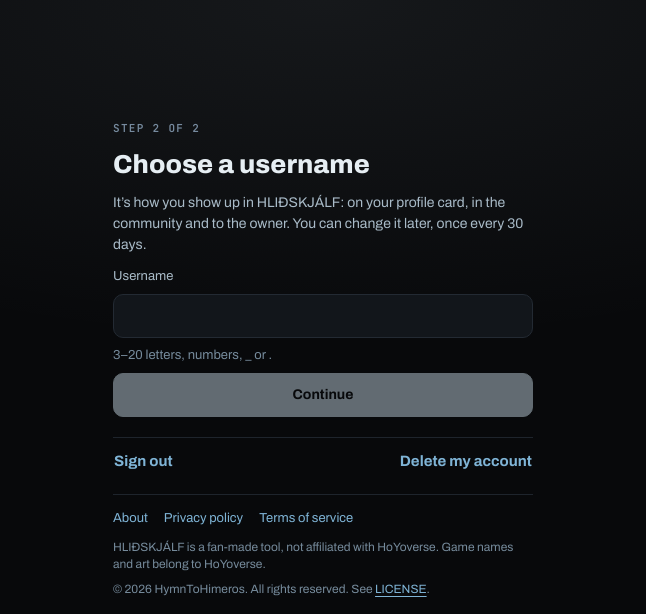
it: first run (T62) › the owner may choose a reserved name like HLITH
Type "HLITH" into the field labelled "Username". click: point(323, 316)
box: [113, 294, 533, 338]
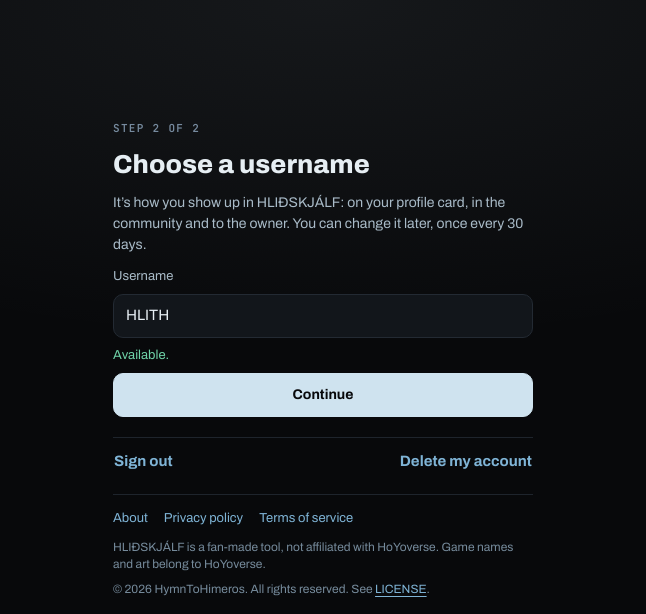
Expected: the text "Available." is shown, [113, 348, 169, 362]
Expected: the button "Continue" is enabled, [113, 373, 533, 417]
